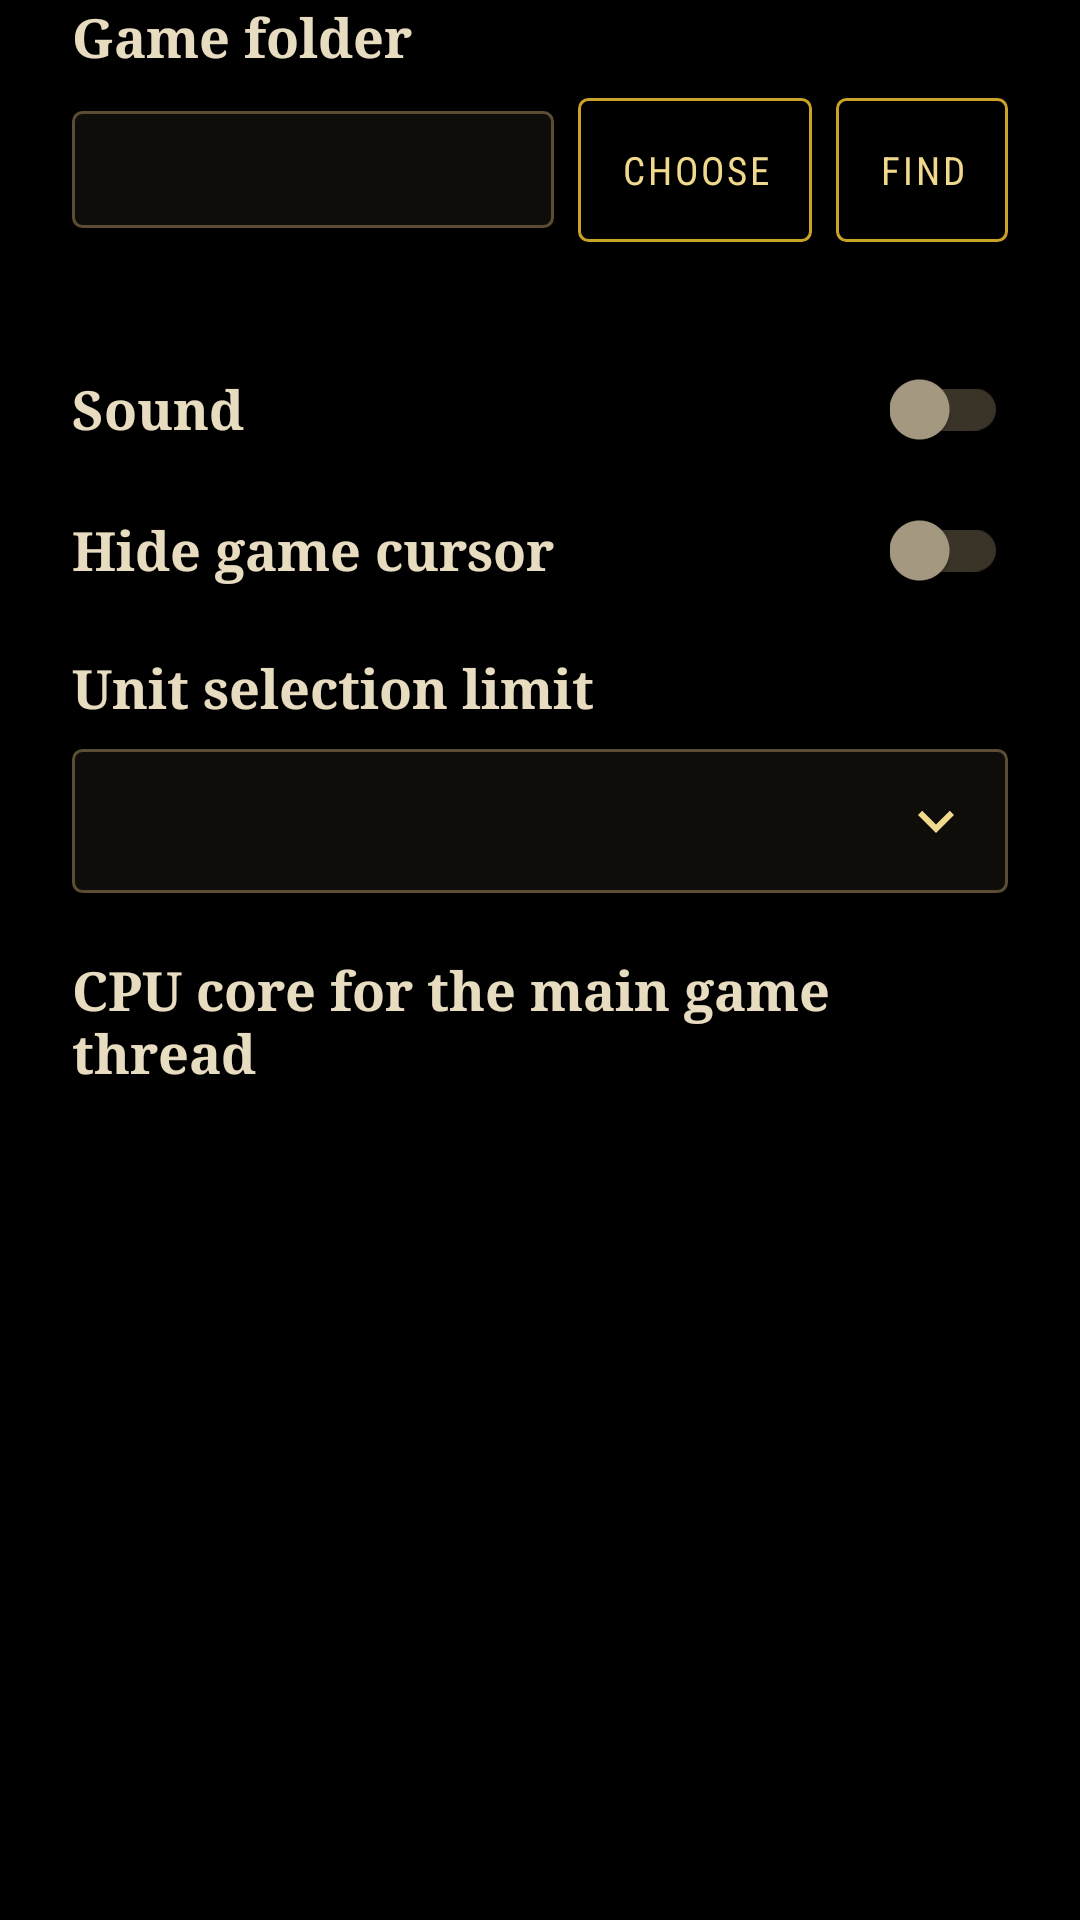

Where icons sit on this 1080x1920 app screen, as (x1, y1, x2, y2):
expand more: (918, 811, 954, 833)
